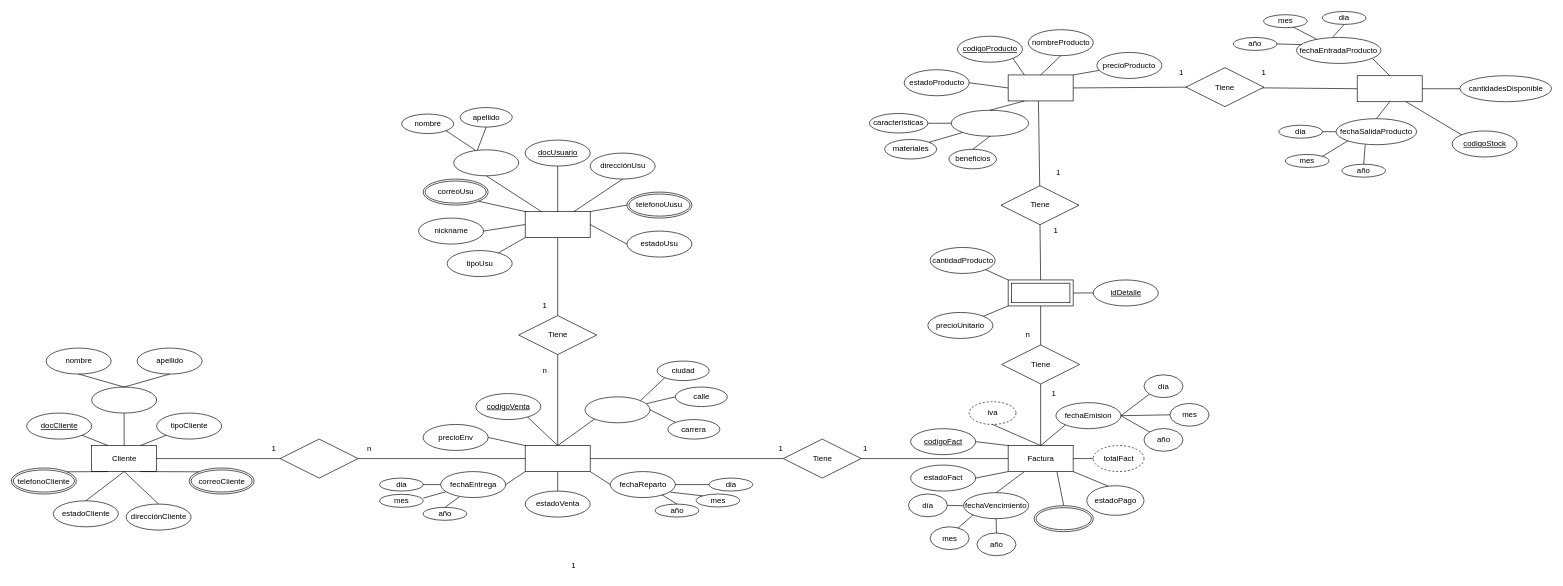
This 1563x586 diagram has some shape labels left out. The box of each missing label's shape, as (x1, y1, x2, y2) in pixels:
descripciónProducto: (951, 110, 1029, 136)
detallesFactura: (1008, 279, 1073, 306)
direccionEnvio: (584, 396, 650, 423)
medioPago: (1034, 505, 1093, 532)
nombreCliente: (91, 386, 157, 413)
nombreUsu: (453, 149, 519, 176)
Producto: (1008, 74, 1073, 101)
Realiza: (280, 438, 358, 478)
Stock: (1357, 75, 1422, 102)
Usuario: (525, 211, 590, 238)
Venta: (525, 445, 590, 472)
